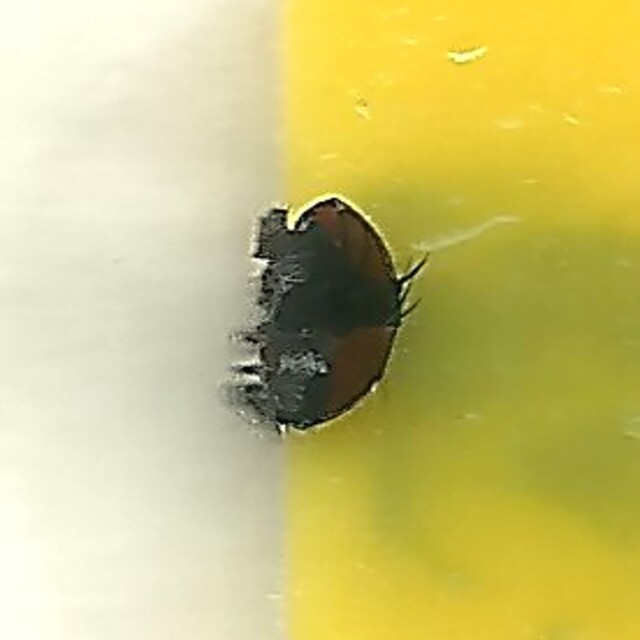Coleoptera: (232, 194, 408, 446)
